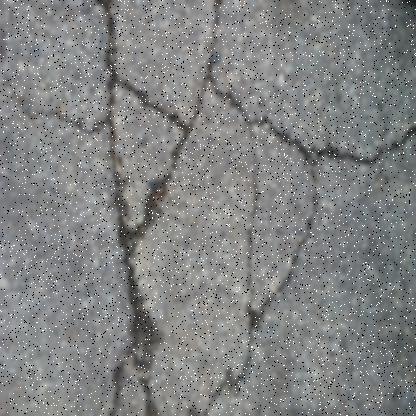Cracks: (204, 72, 416, 416), (91, 0, 225, 416), (2, 25, 108, 141)
